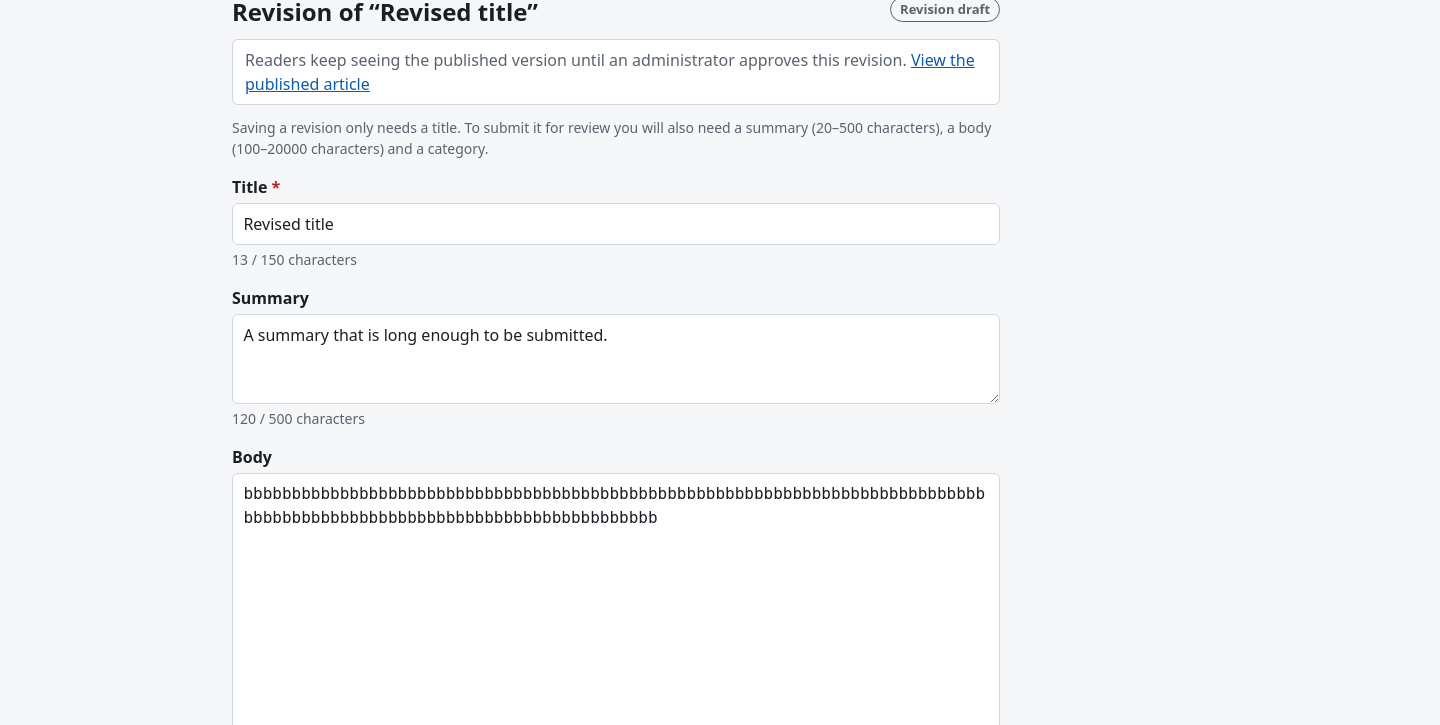
Test: a draft revision › saves the changes with the current version and confirms it
Replace the text in the field with test id "revision-title" with "A better title": (616, 224) [232,203,1000,245]
(page scrolled)
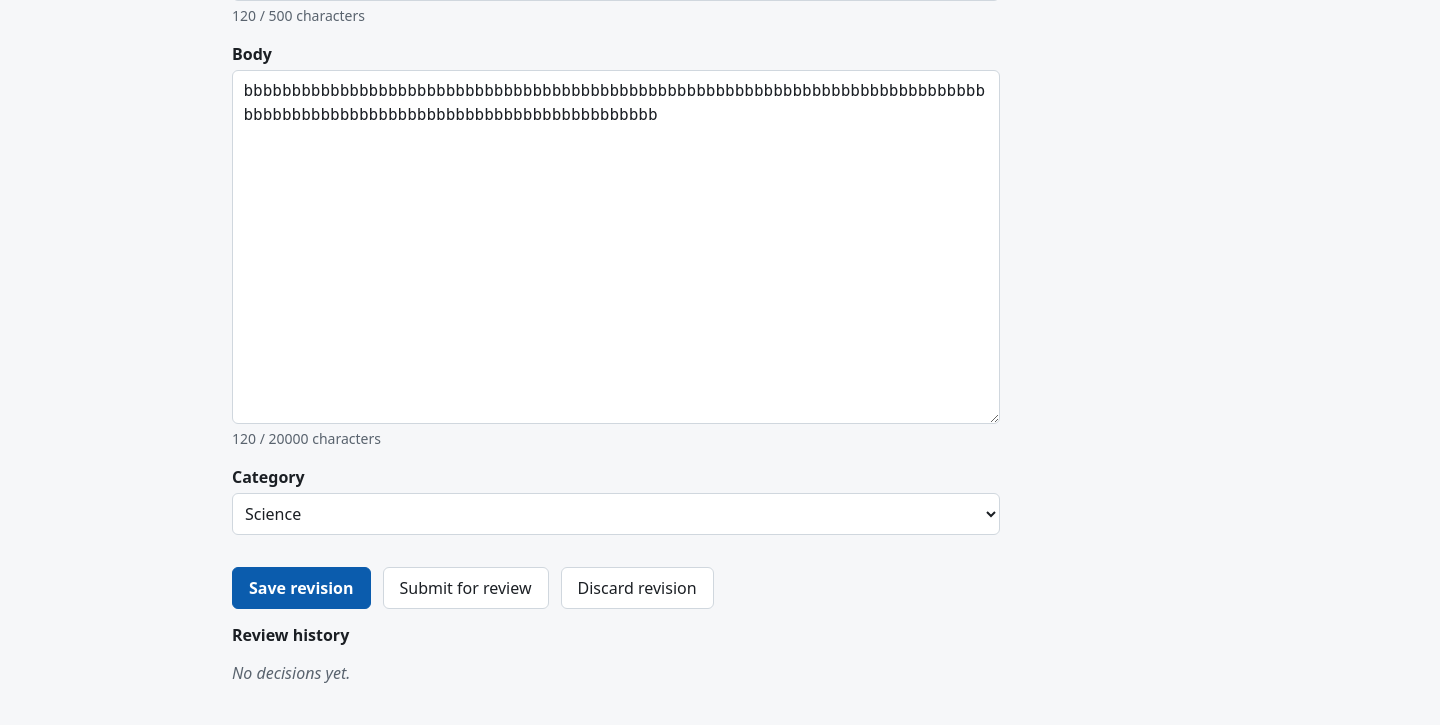
Click the button with test id "revision-save": (301, 588) [232,567,370,609]
(page scrolled)
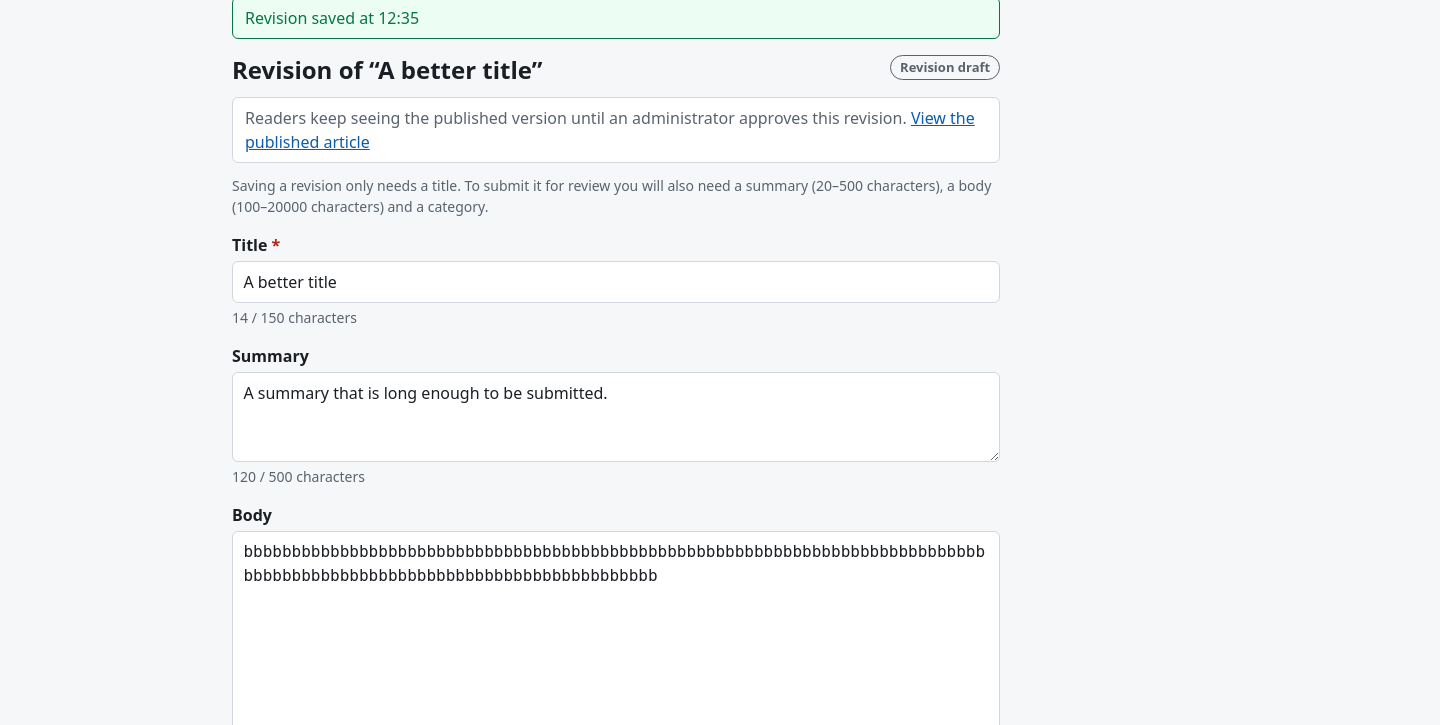
Expected: the message with test id "revision-flash" shows "Revision saved at", [245,7,419,29]
Expected: the heading reads "Revision of “A better title”", [232,55,542,85]
